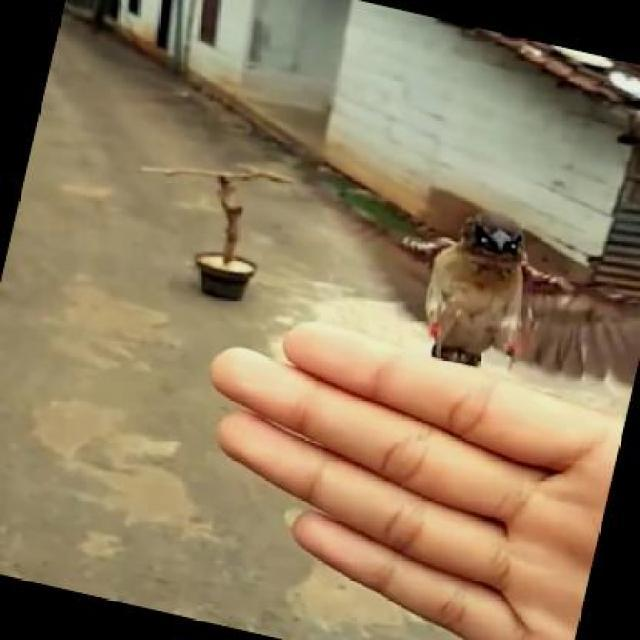Bird: (399, 184, 640, 443)
